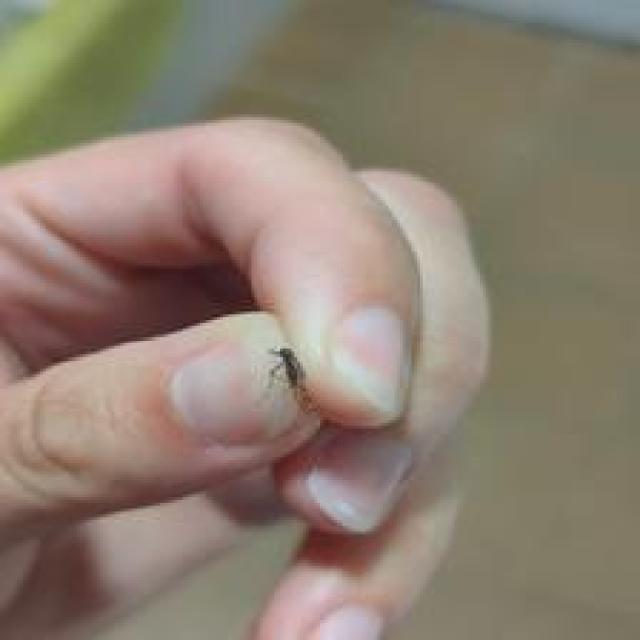Aedes albopictus: (266, 346, 323, 417)
